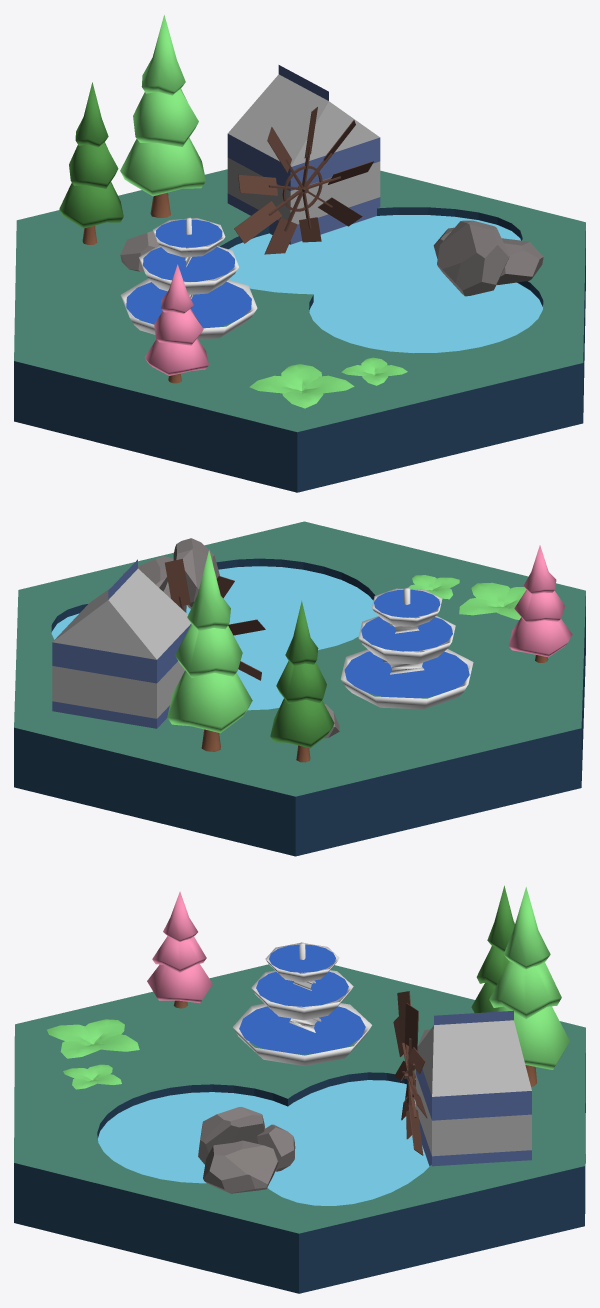
The model's file is Macro - Townhall lvl 1011 Water Land rev.fbx.
3 renders of one model, top to bottom at view 1: azimuth 30°, elevation 25°; view 2: azimuth 150°, elevation 25°; view 3: azimuth 270°, elevation 25°, orthographic.
Parts seen in each view (by area): view 1: Cylinder.050, milkbox2.002, Cylinder.052, Cylinder.031, Cube.018, Tree_Spruce_tiny_01.008, Fanblade.001, Rock Type2 02 mesh.008, Tree_Spruce_tiny_01.007, Tree_Spruce_tiny_01.001, Plane.003, Plane.005 (+1 smaller); view 2: Cylinder.050, milkbox2.002, Cube.018, Cylinder.031, Tree_Spruce_tiny_01.008, Tree_Spruce_tiny_01.007, Tree_Spruce_tiny_01.001, Cylinder.052, Rock Type2 02 mesh.008, Fanblade.001, Plane.003, Plane.005; view 3: Cylinder.050, milkbox2.002, Cylinder.052, Cube.018, Cylinder.031, Tree_Spruce_tiny_01.008, Rock Type2 02 mesh.008, Tree_Spruce_tiny_01.001, Fanblade.001, Plane.003, Tree_Spruce_tiny_01.007, Plane.005.
Part boxes in pixels (x1,y1,x2,y2): Cylinder.050: (14, 169, 585, 492); milkbox2.002: (227, 65, 380, 244); Cylinder.052: (228, 215, 520, 301); Cylinder.031: (309, 268, 542, 353); Cube.018: (120, 217, 257, 339); Tree_Spruce_tiny_01.008: (120, 15, 205, 217); Fanblade.001: (234, 107, 373, 254); Rock Type2 02 mesh.008: (433, 220, 543, 296); Tree_Spruce_tiny_01.007: (59, 82, 123, 244); Tree_Spruce_tiny_01.001: (144, 264, 208, 383); Plane.003: (249, 364, 354, 408); Plane.005: (341, 357, 407, 385); Cylinder.050: (14, 521, 585, 856); milkbox2.002: (52, 559, 191, 728); Cube.018: (341, 587, 473, 709); Cylinder.031: (186, 566, 377, 661); Tree_Spruce_tiny_01.008: (167, 550, 252, 751); Tree_Spruce_tiny_01.007: (270, 600, 334, 762); Tree_Spruce_tiny_01.001: (508, 545, 572, 662); Cylinder.052: (51, 613, 288, 710); Rock Type2 02 mesh.008: (123, 538, 219, 612); Fanblade.001: (165, 558, 265, 680); Plane.003: (459, 582, 526, 619); Plane.005: (408, 575, 459, 599); Cylinder.050: (14, 964, 585, 1293); milkbox2.002: (415, 1010, 531, 1166); Cylinder.052: (267, 1080, 429, 1205); Cube.018: (233, 942, 371, 1066); Cylinder.031: (98, 1092, 318, 1183); Tree_Spruce_tiny_01.008: (489, 887, 569, 1086); Rock Type2 02 mesh.008: (198, 1107, 295, 1193); Tree_Spruce_tiny_01.001: (147, 891, 212, 1008); Fanblade.001: (393, 991, 427, 1155); Plane.003: (47, 1019, 139, 1058); Tree_Spruce_tiny_01.007: (471, 885, 514, 1012); Plane.005: (63, 1064, 121, 1089).
Size of the model in its own units: 197 by 85.91 by 172.
